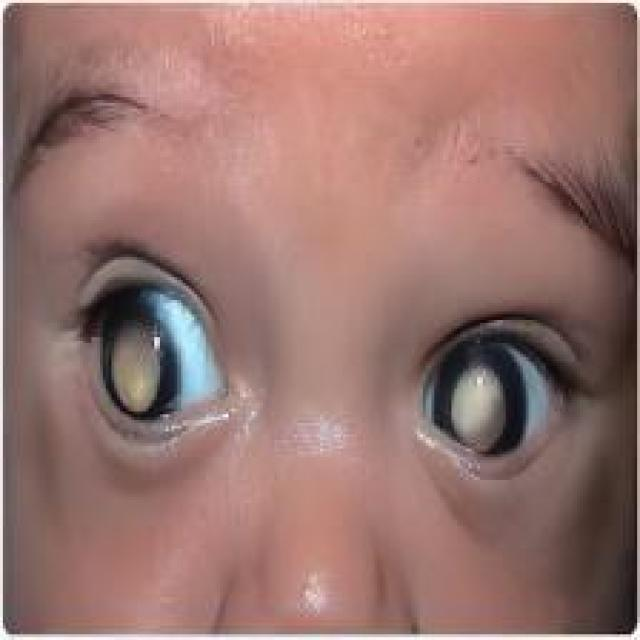reflexo-alterado: (61, 245, 276, 488), (391, 237, 584, 494)
